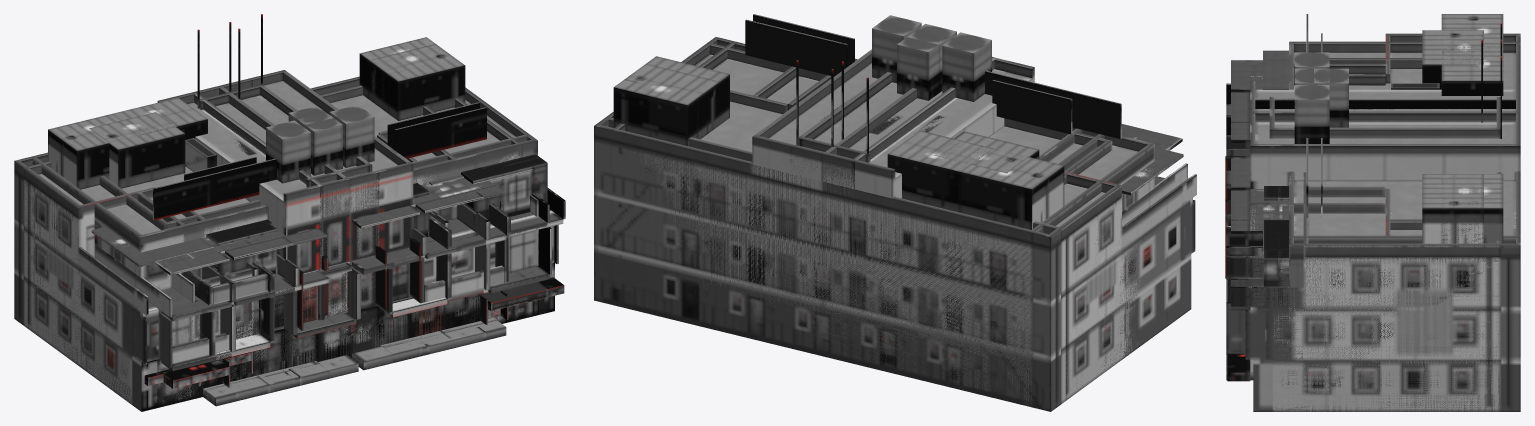
The model's file is porch_far-qljdDs3W.glb.
3 views of the same model, side by side, from view 1: azimuth 30°, elevation 25°; view 2: azimuth 150°, elevation 25°; view 3: azimuth 270°, elevation 25° (orthographic). The views are drawn at different scales.
Visible parts, largest first — view 1: far_09e73020, far_9a281db6, far_b35bd157, far_9e5c624b, far_82fdb7f2; view 2: far_09e73020, far_9a281db6, far_9e5c624b, far_b35bd157, far_82fdb7f2; view 3: far_9e5c624b, far_09e73020, far_9a281db6, far_b35bd157, far_82fdb7f2.
Part boxes in pixels (x1,y1,x2,y2): far_09e73020: (14, 22, 565, 411); far_9a281db6: (31, 14, 549, 407); far_b35bd157: (32, 29, 551, 370); far_9e5c624b: (23, 28, 555, 404); far_82fdb7f2: (89, 84, 503, 377); far_09e73020: (594, 14, 1196, 411); far_9a281db6: (612, 15, 1178, 406); far_9e5c624b: (606, 19, 1186, 404); far_b35bd157: (616, 32, 1187, 232); far_82fdb7f2: (689, 72, 1136, 184); far_9e5c624b: (1245, 33, 1501, 411); far_09e73020: (1225, 33, 1520, 411); far_9a281db6: (1225, 41, 1520, 359); far_b35bd157: (1225, 14, 1520, 354); far_82fdb7f2: (1245, 30, 1500, 278).
Bounding box in the file's own units: 26 × 15.2 × 15.3.
1 material, 1 textured.
